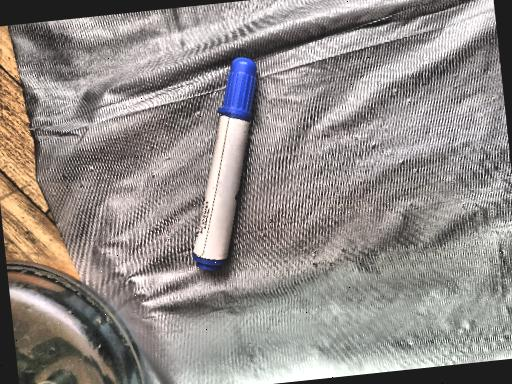marcador azul: (192, 57, 256, 270)
